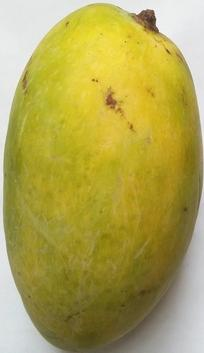PartiallyRipe: (1, 1, 204, 353)
